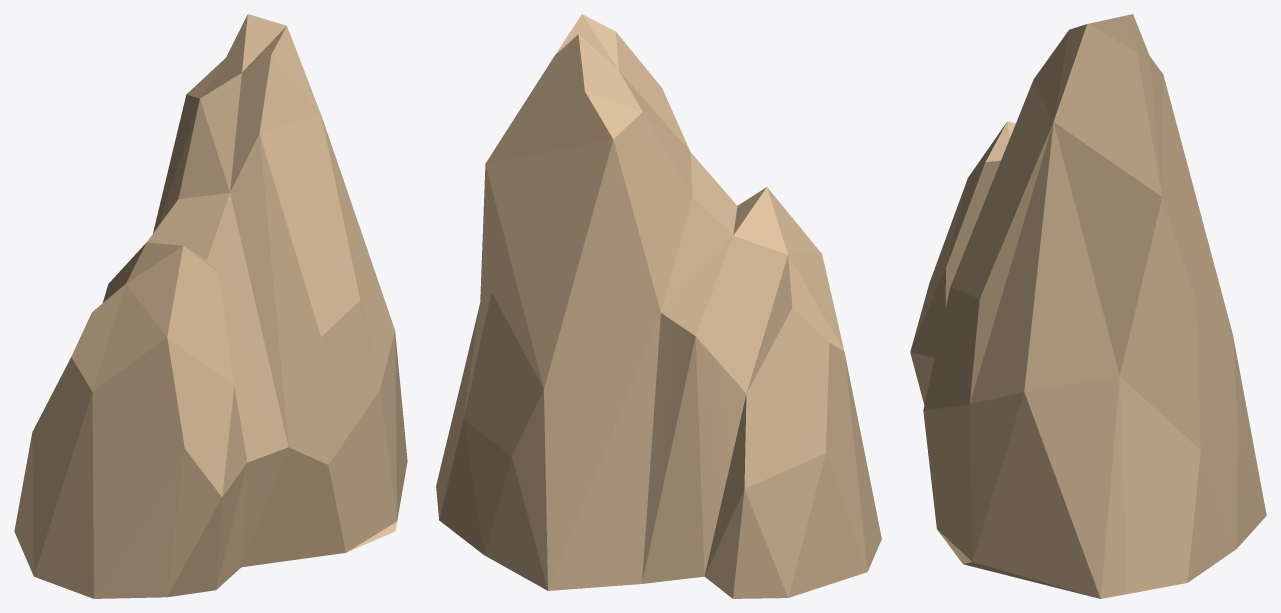
File: nature-stone-big-tall.glb
The picture shows the model from 3 angles, left to right: view 1: azimuth 30°, elevation 25°; view 2: azimuth 150°, elevation 25°; view 3: azimuth 270°, elevation 25°; orthographic projection. The views are drawn at different scales.
Visible parts, largest first — view 1: stone-big-tall; view 2: stone-big-tall; view 3: stone-big-tall.
Part boxes in pixels (x1,y1,x2,y2): stone-big-tall: (14,14,407,598); stone-big-tall: (436,14,881,598); stone-big-tall: (910,14,1266,598).
Bounding box in the file's own units: 2.94 × 3.48 × 2.15.
